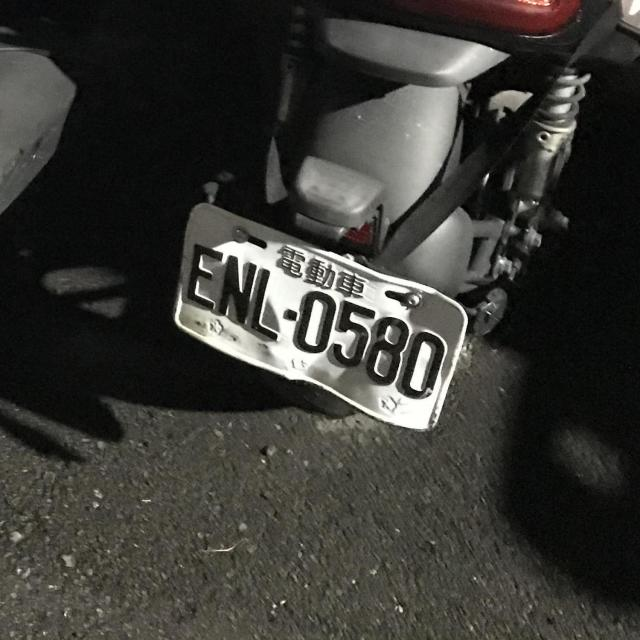W: (148, 199, 480, 432)
